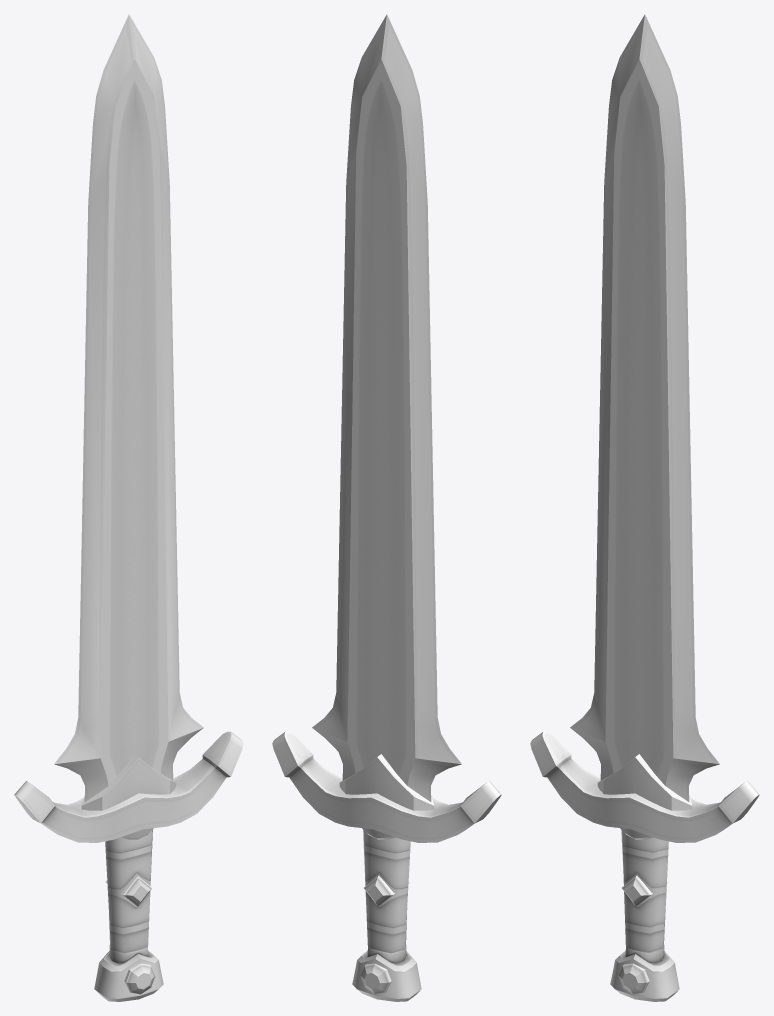
3 renders of one model, left to right at view 1: azimuth 30°, elevation 25°; view 2: azimuth 150°, elevation 25°; view 3: azimuth 330°, elevation 25°, orthographic.
Visible parts, largest first — view 1: 013_a_jeweled_sword_01; view 2: 013_a_jeweled_sword_01; view 3: 013_a_jeweled_sword_01.
Part boxes in pixels (box(x1,y1,x2,y2)): 013_a_jeweled_sword_01: box(14, 14, 243, 1001); 013_a_jeweled_sword_01: box(272, 14, 501, 1001); 013_a_jeweled_sword_01: box(530, 14, 759, 1001).
Bounding box in the file's own units: 29.08 × 120 × 6.75.
